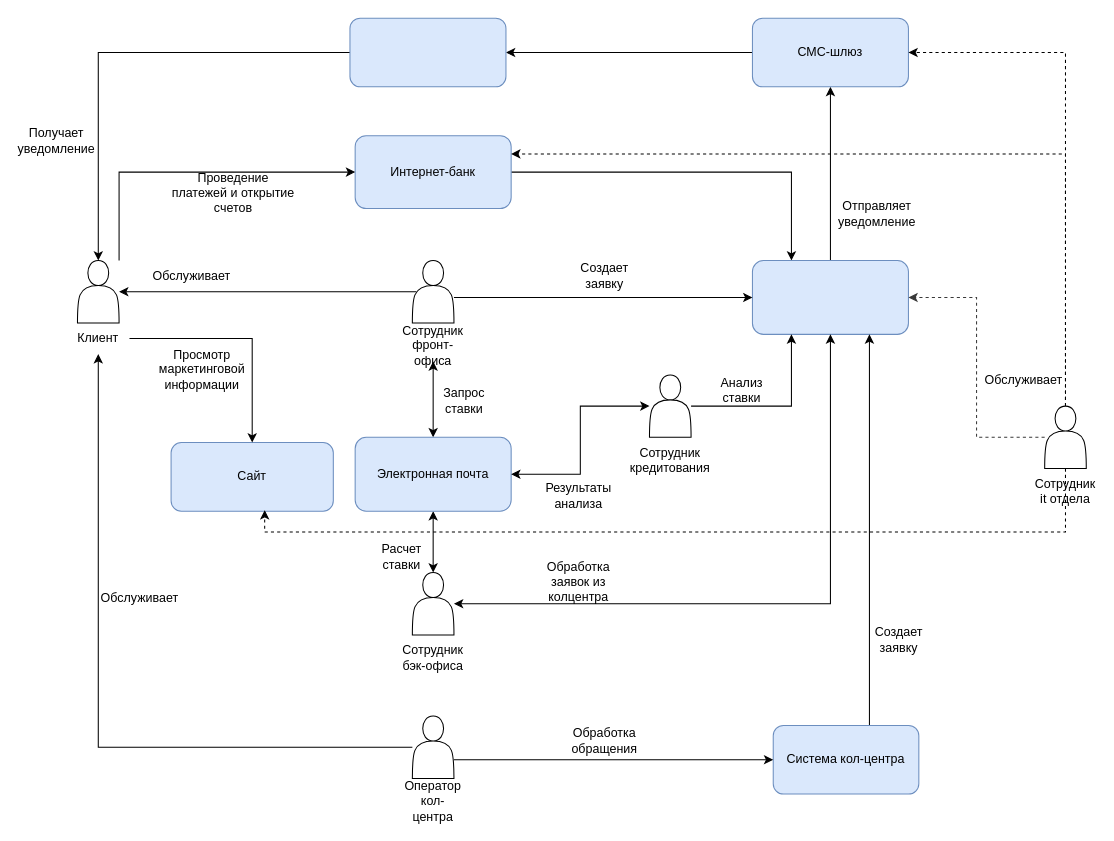
Image size: 1114x841. Some labels were removed from this diagram. Here are the shapes that lost their labels. From the top down, the centre of each, then its label:
point (427, 52): Телеком оператор
point (829, 296): АБС
